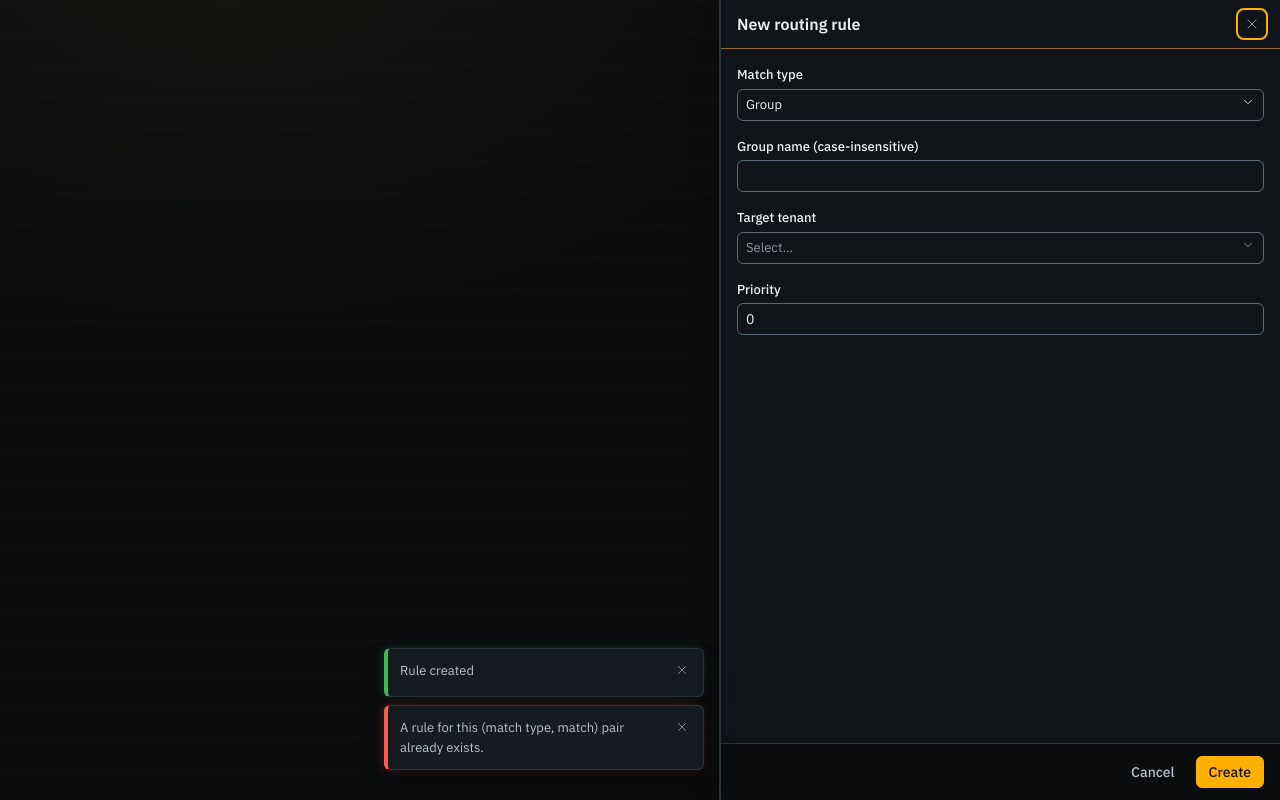
it: TenantMatchEditor — create mode › changing match_type updates the match input label
Check: the field labelled "Group name (case-insensitive)" is shown, box [738,166,1263,186]
# Change to domain
Step 1. Click the dropdown named "match type" → x=764, y=104, box [737,88,1264,120]
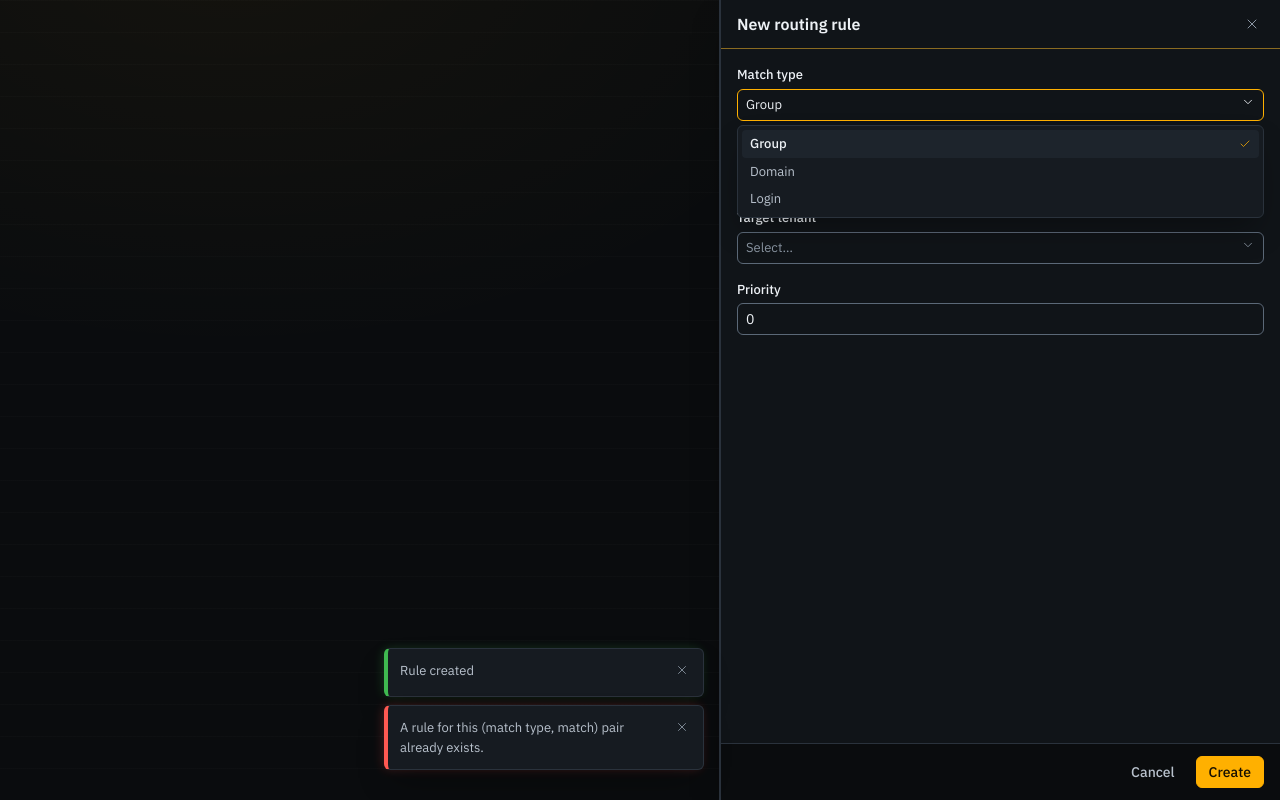
Step 2. Click the option "Domain" → x=772, y=171, box [750,162,795,180]
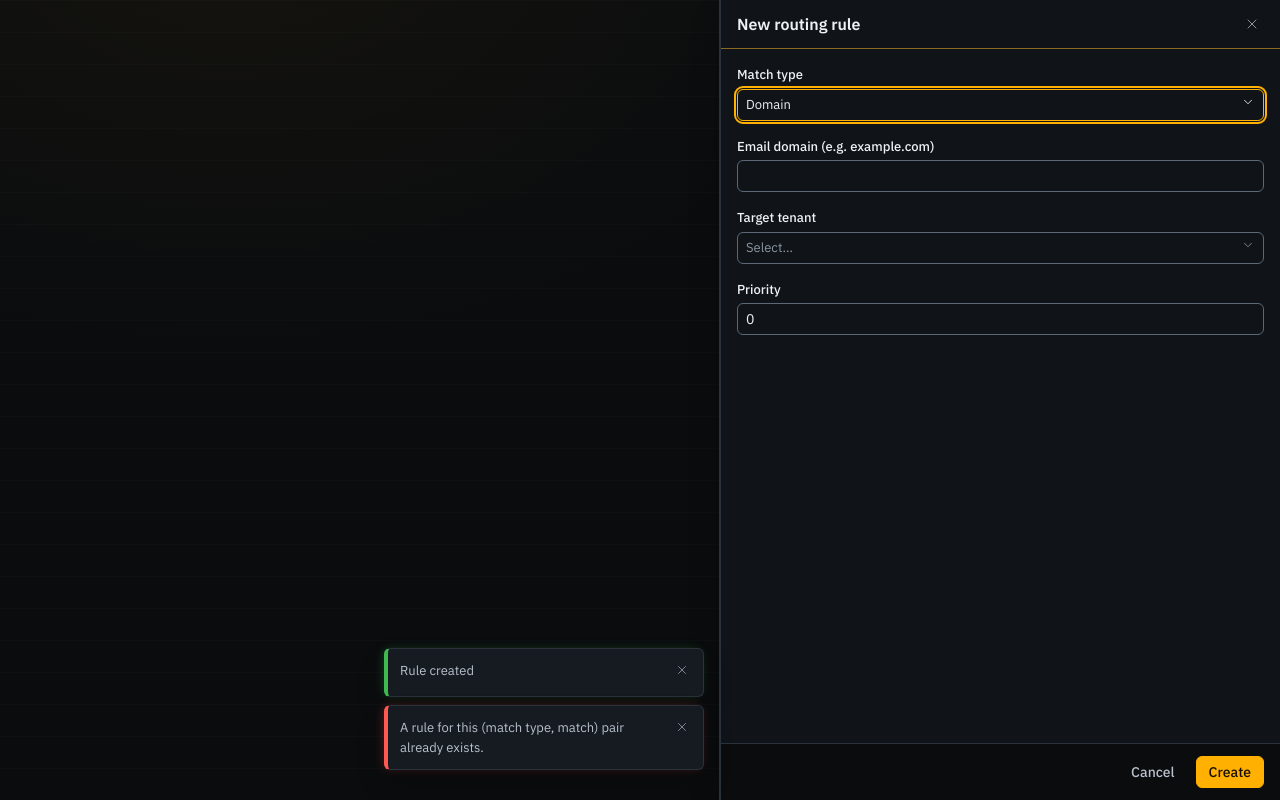
Check: the field labelled "Email domain (e.g. example.com)" is shown, box [738,166,1263,186]
